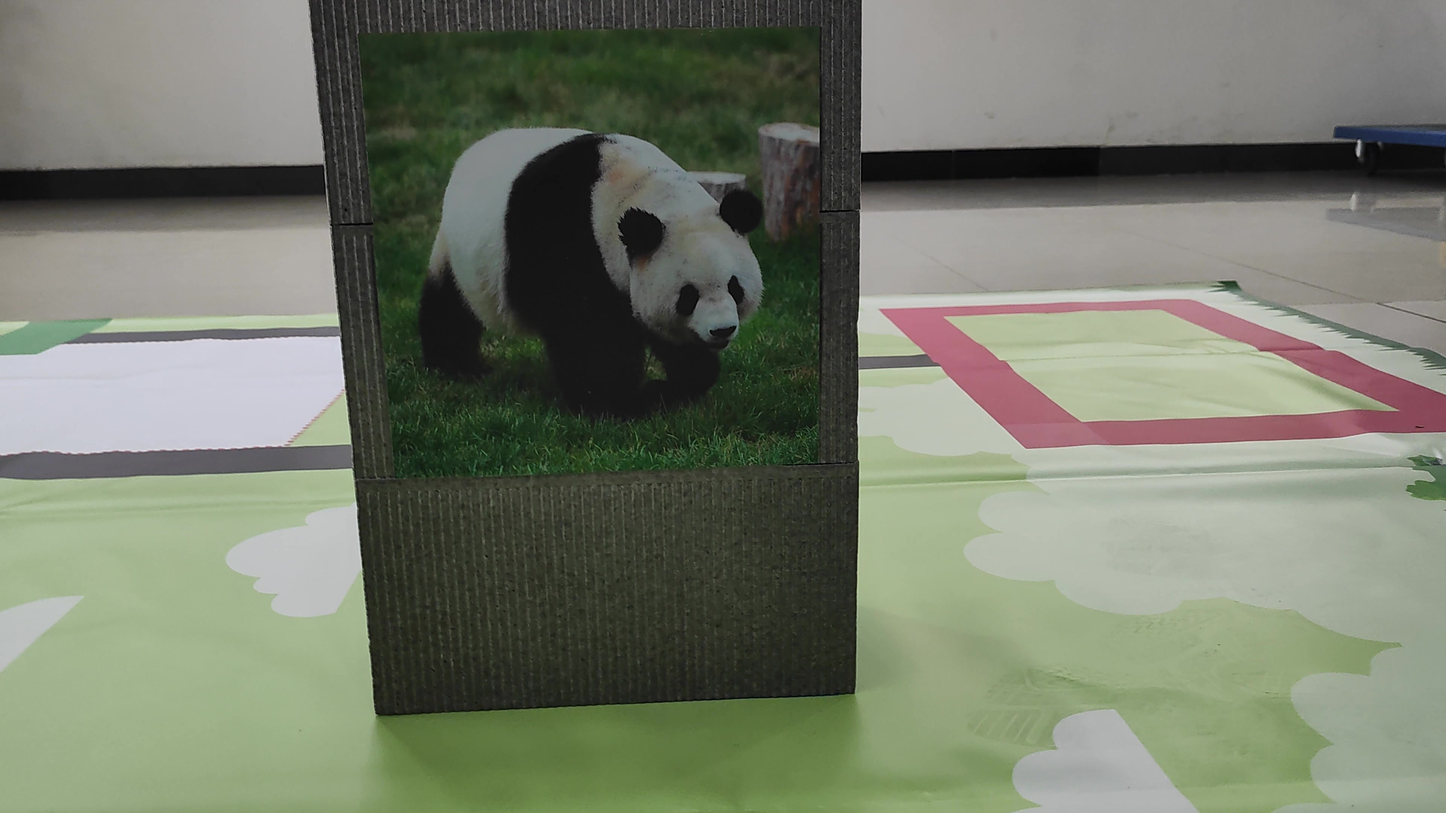panda: (378, 44, 786, 431)
